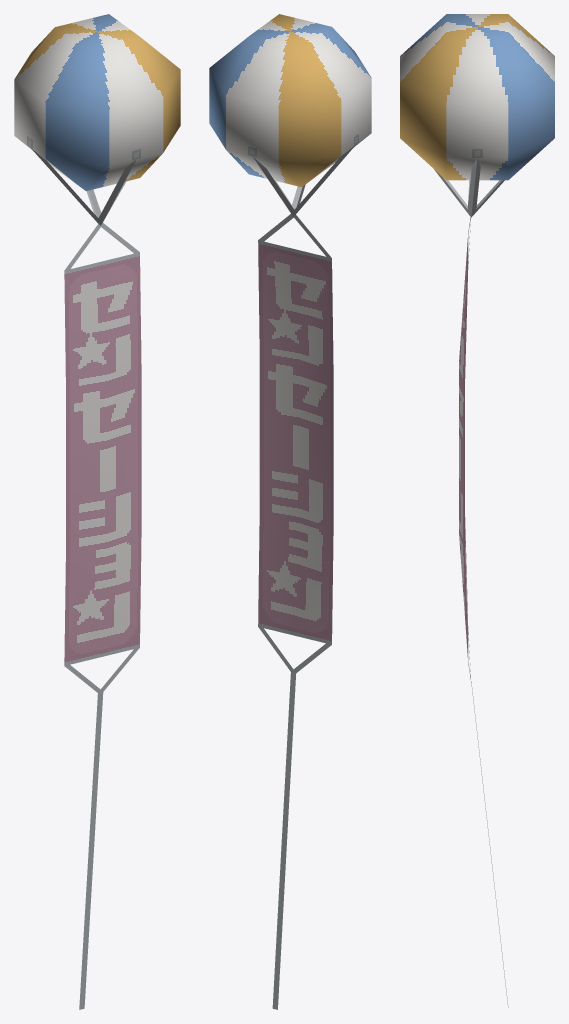
The model's file is 0128_Advertising_Balloon.glb.
3 renders of one model, left to right at view 1: azimuth 30°, elevation 25°; view 2: azimuth 150°, elevation 25°; view 3: azimuth 270°, elevation 25°, orthographic. The views are drawn at different scales.
Parts seen in each view (by area): view 1: part_0; view 2: part_0; view 3: part_0.
Boxes of the visible parts, x1,y1,x2,y2 form: part_0: [14, 14, 180, 1009]; part_0: [209, 14, 371, 1009]; part_0: [400, 14, 554, 1007].
Bounding box in the file's own units: 2.5 × 17.5 × 2.5.
1 material, 1 textured.
